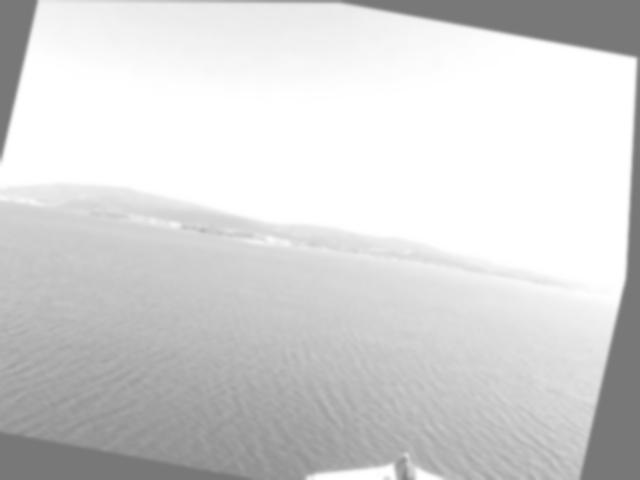hedef: (297, 415, 545, 480)
